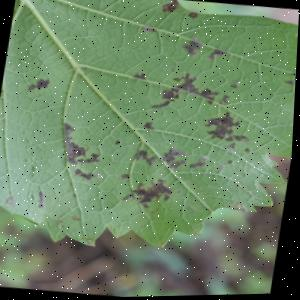Folha: (0, 0, 300, 266)
Fungo: (49, 0, 276, 220), (146, 65, 265, 156), (152, 67, 225, 115), (57, 120, 112, 182), (135, 142, 212, 173), (123, 175, 182, 211), (203, 109, 257, 145), (59, 121, 93, 165), (181, 33, 231, 62), (205, 109, 244, 130), (161, 0, 201, 20), (175, 69, 205, 95), (153, 85, 183, 110), (162, 145, 191, 170), (181, 34, 206, 57), (208, 124, 237, 142), (67, 141, 92, 159), (75, 167, 104, 181), (27, 75, 52, 91), (136, 149, 161, 165), (79, 151, 104, 164), (178, 75, 199, 90), (191, 155, 211, 170), (153, 97, 176, 110), (182, 42, 201, 57), (161, 87, 182, 100), (63, 122, 79, 139), (162, 0, 181, 14), (180, 70, 199, 84), (168, 146, 190, 158), (209, 48, 229, 60), (170, 158, 190, 170), (218, 158, 236, 171), (140, 195, 158, 208), (174, 70, 192, 83), (229, 201, 251, 211), (38, 189, 50, 207), (201, 87, 221, 97), (235, 133, 254, 143), (84, 170, 103, 180), (136, 149, 152, 160), (284, 72, 297, 85), (221, 93, 233, 105), (75, 168, 91, 177), (190, 40, 205, 49), (227, 141, 239, 152), (142, 25, 158, 33), (134, 70, 148, 79), (125, 191, 139, 200), (164, 154, 178, 163), (8, 195, 19, 206), (148, 155, 160, 165), (214, 48, 229, 56), (145, 120, 158, 129), (183, 43, 195, 52), (231, 80, 242, 89), (70, 155, 81, 164), (207, 95, 218, 104), (181, 71, 192, 80), (73, 213, 85, 221), (27, 82, 39, 90), (120, 173, 133, 180), (188, 11, 199, 18), (226, 135, 237, 142), (138, 181, 149, 188), (233, 120, 244, 127), (200, 155, 211, 162), (143, 202, 154, 208), (245, 147, 254, 154), (286, 79, 296, 85), (172, 87, 182, 93), (159, 178, 170, 183), (93, 152, 102, 158), (219, 164, 229, 169), (60, 216, 67, 223), (166, 194, 173, 201), (190, 205, 198, 211), (175, 76, 183, 81), (117, 138, 123, 144), (191, 34, 198, 39), (229, 159, 235, 164), (292, 72, 297, 76), (169, 0, 179, 2)
